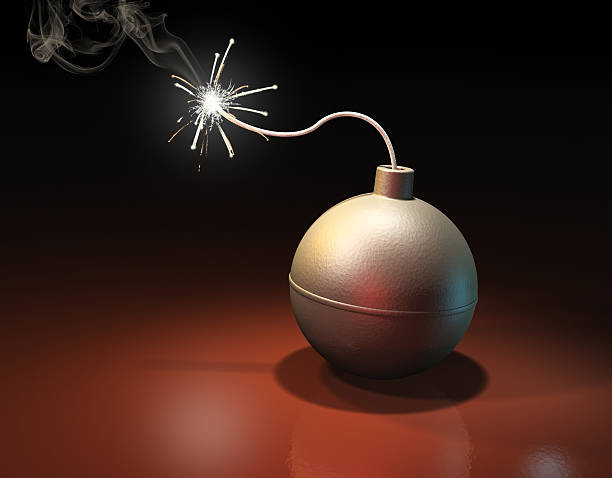e1: (278, 124, 483, 386)
